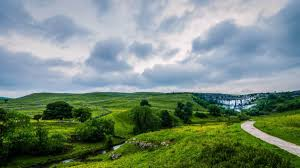field: (4, 90, 300, 167)
sky: (1, 3, 297, 90)
